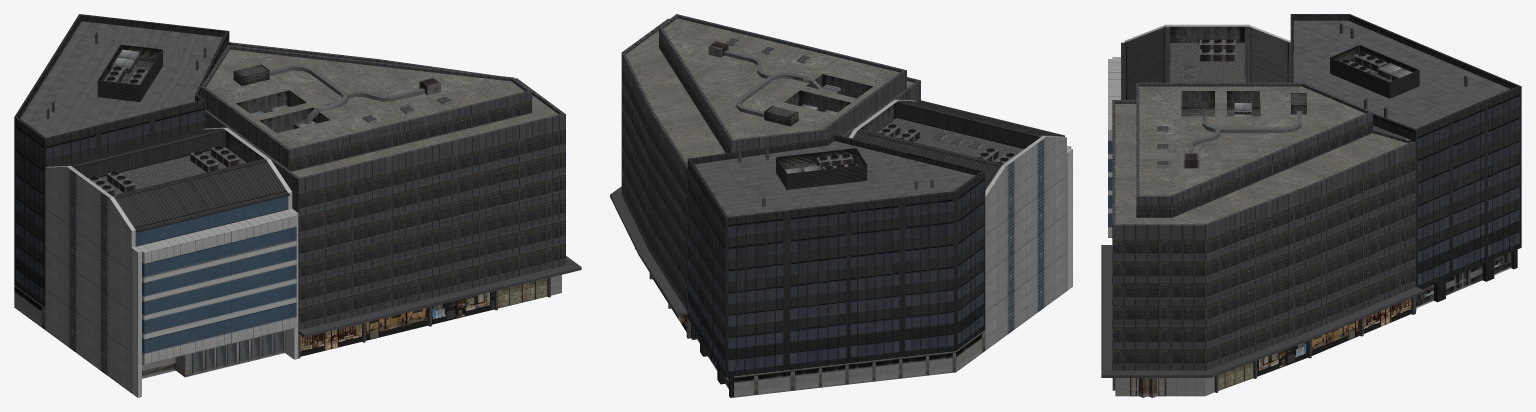
The model's file is AIT01W2W5.FBX.
3 renders of one model, left to right at view 1: azimuth 30°, elevation 25°; view 2: azimuth 150°, elevation 25°; view 3: azimuth 270°, elevation 25°, orthographic. The views are drawn at different scales.
Parts seen in each view (by area): view 1: Plane001; view 2: Plane001; view 3: Plane001.
Part boxes in pixels (x1,y1,x2,y2): Plane001: (14,14,581,397); Plane001: (610,14,1072,397); Plane001: (1101,14,1521,397).
Size of the model in its own units: 6551 by 2923 by 5662.
Materials: 1 (1 with a texture image).
